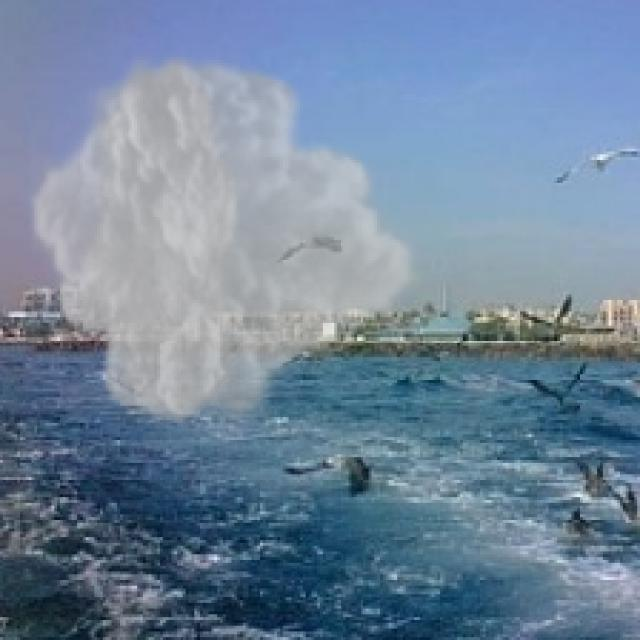smoke: (26, 46, 423, 434)
